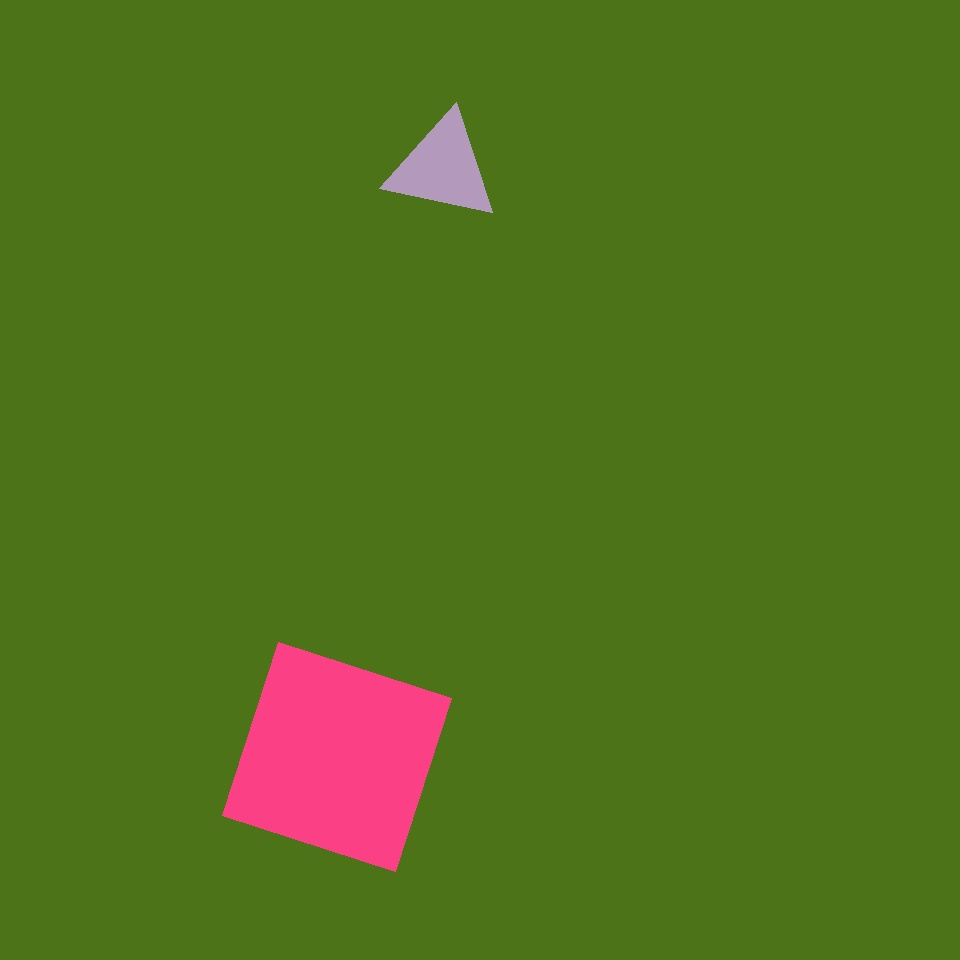circle: (557, 508, 822, 786), (527, 614, 763, 864), (702, 216, 930, 460), (387, 113, 500, 223), (174, 288, 256, 376)
square: (222, 642, 451, 872), (748, 592, 915, 759)
triangle: (262, 517, 356, 612)
